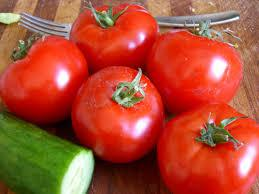tomato: (73, 67, 164, 161), (157, 107, 254, 191), (146, 28, 241, 109), (3, 36, 86, 124), (69, 1, 156, 73)
